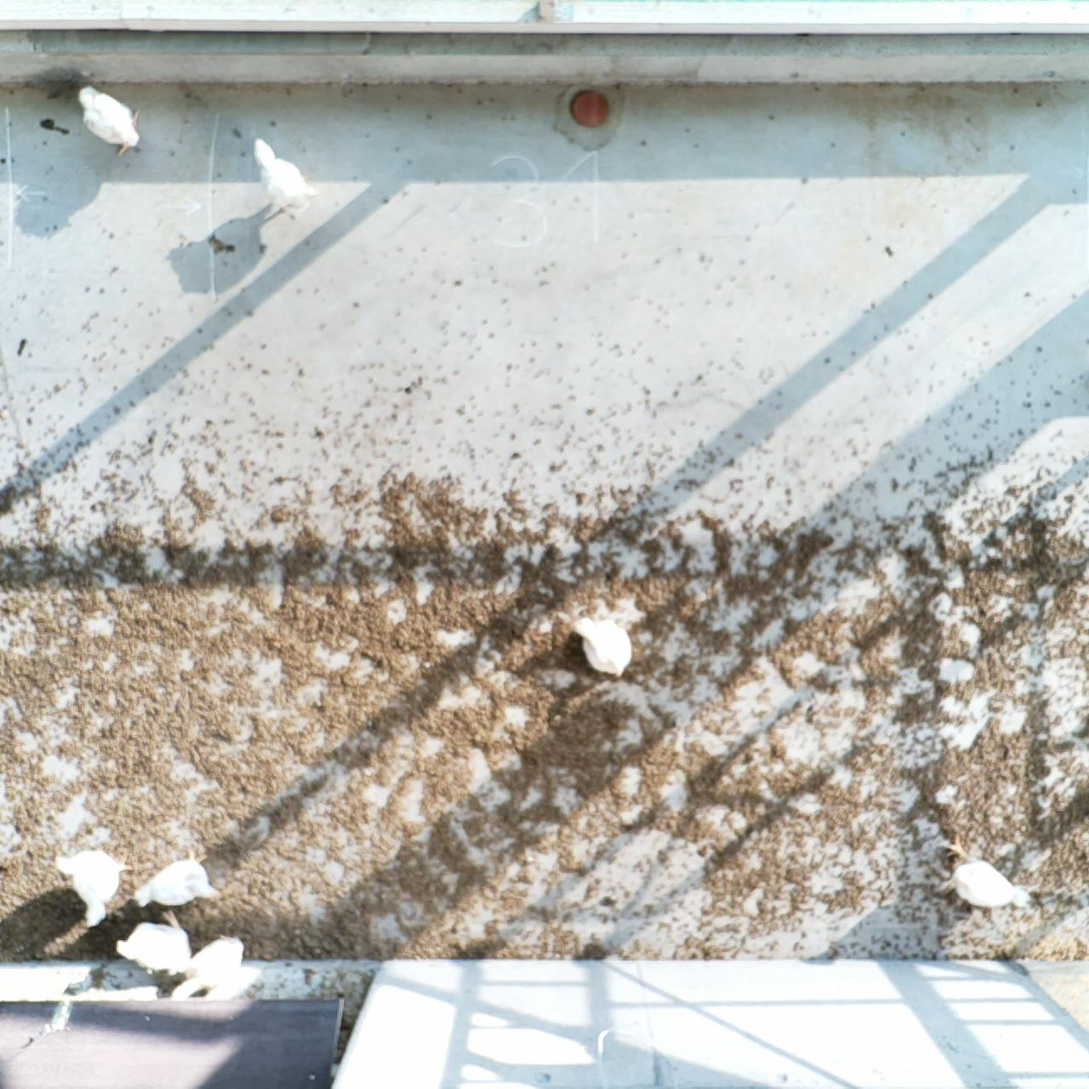chicken: (934, 830, 1031, 913), (51, 844, 137, 932), (250, 137, 320, 221), (113, 906, 192, 976), (168, 933, 244, 1003), (76, 82, 143, 160), (128, 854, 224, 908), (570, 612, 633, 677)
